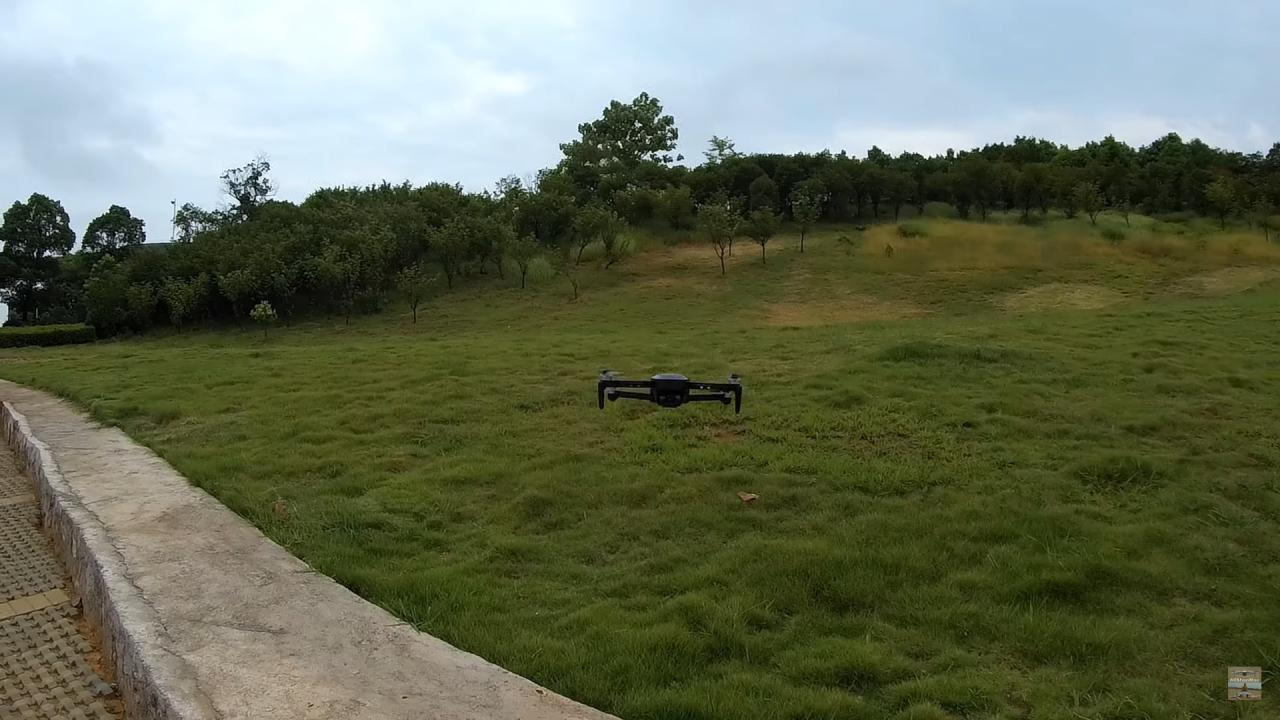Drone: (583, 352, 760, 426)
